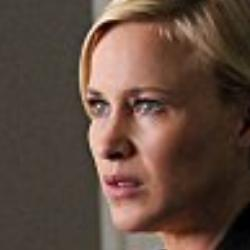face: (55, 1, 250, 238)
